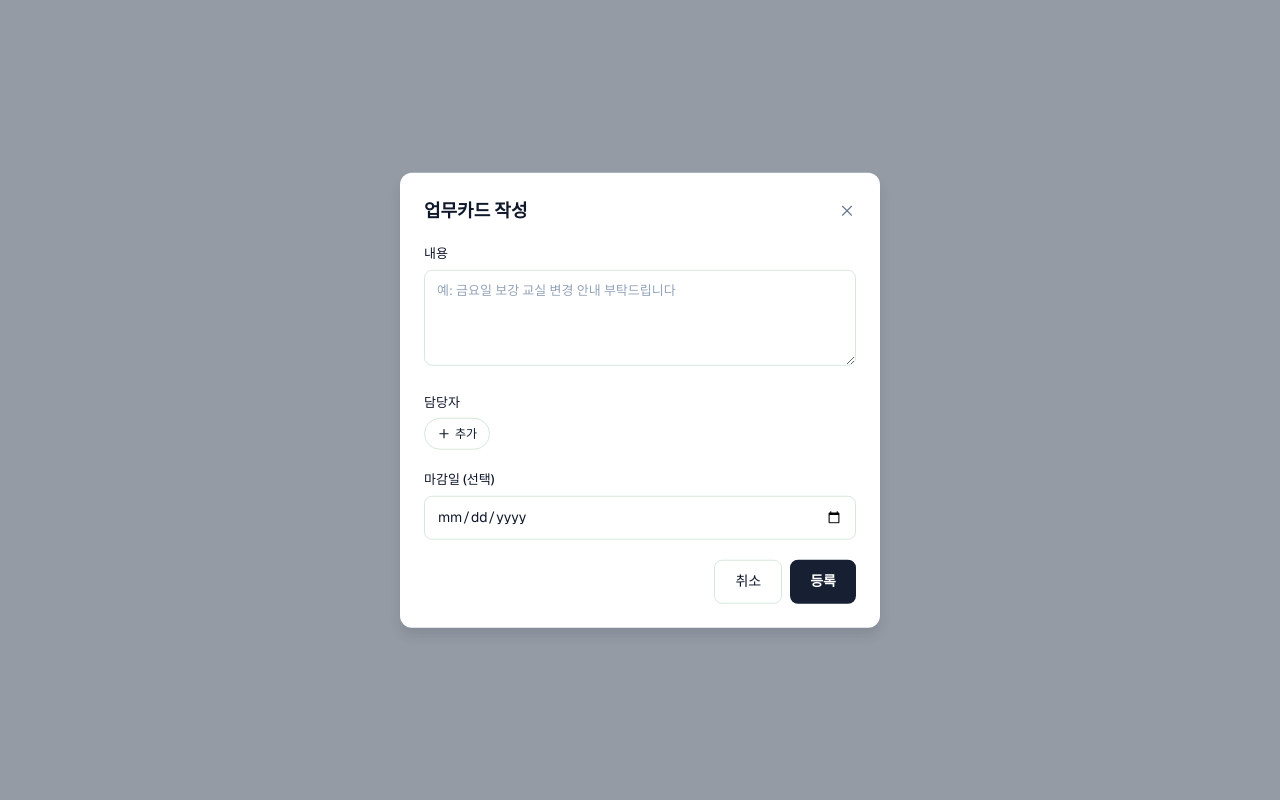
Test case: TaskCreateModal › 담당자 후보 목록에서 로그인 사용자 본인은 제외한다
This screenshot has width=1280, height=800.
What coordinates should you click on to do the following:
click the button "추가"
I would click on:
 (457, 434)
Its box is [424,418,490,450].
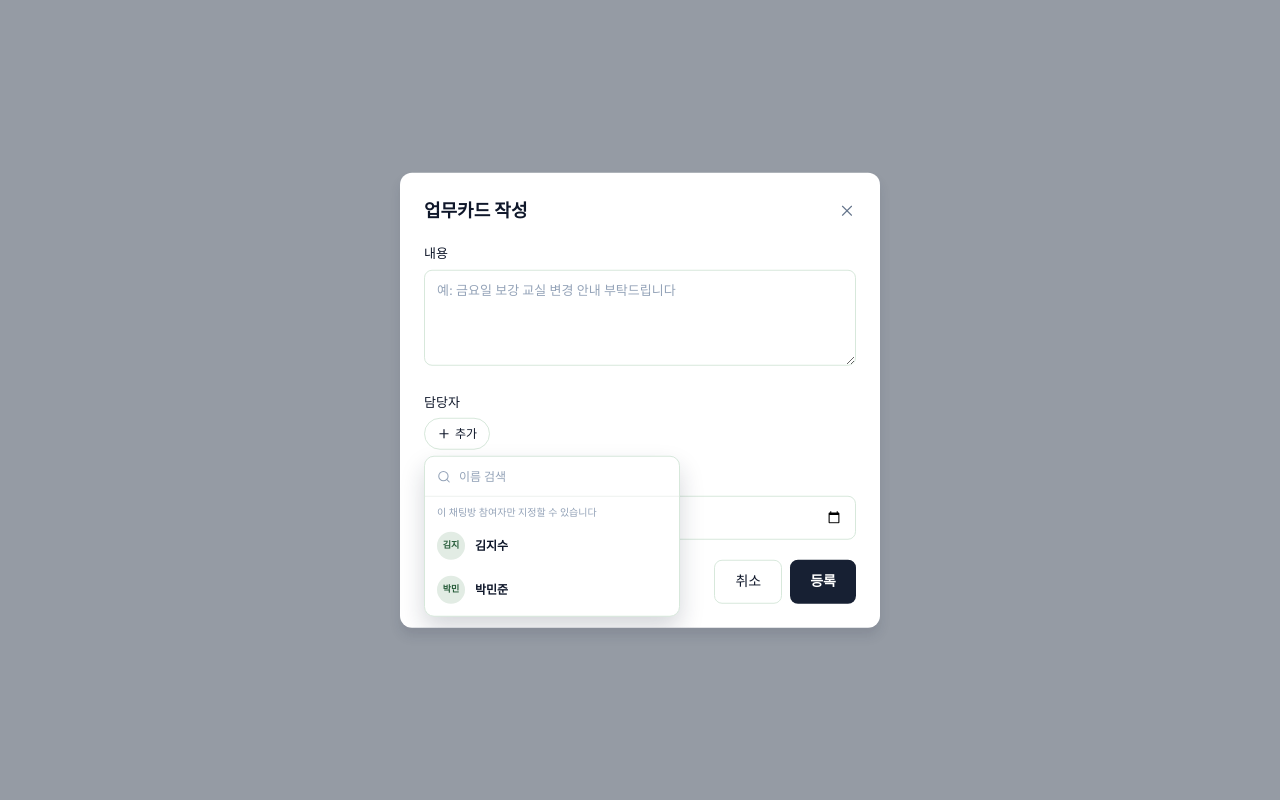
expect the text "김지수" is shown: met, box [475,538,508,554]
